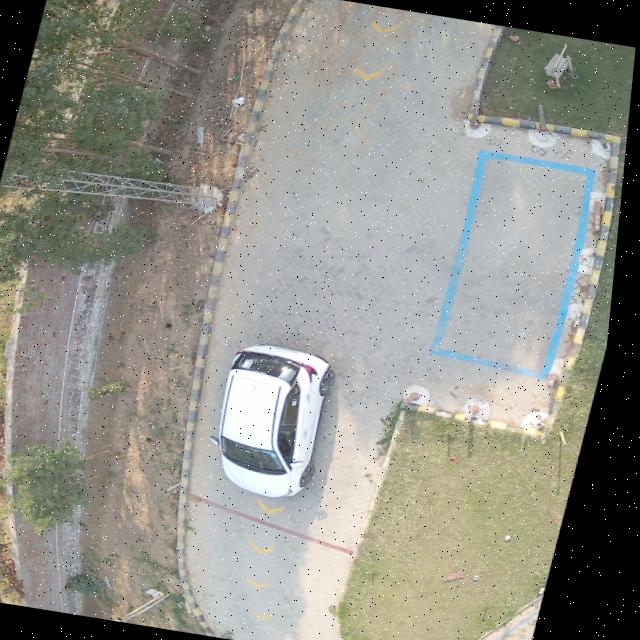car: (223, 343, 343, 498)
